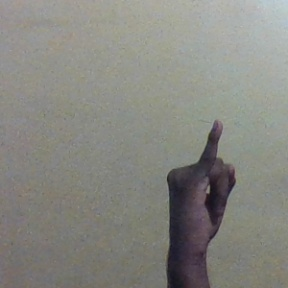I: (167, 119, 239, 245)
